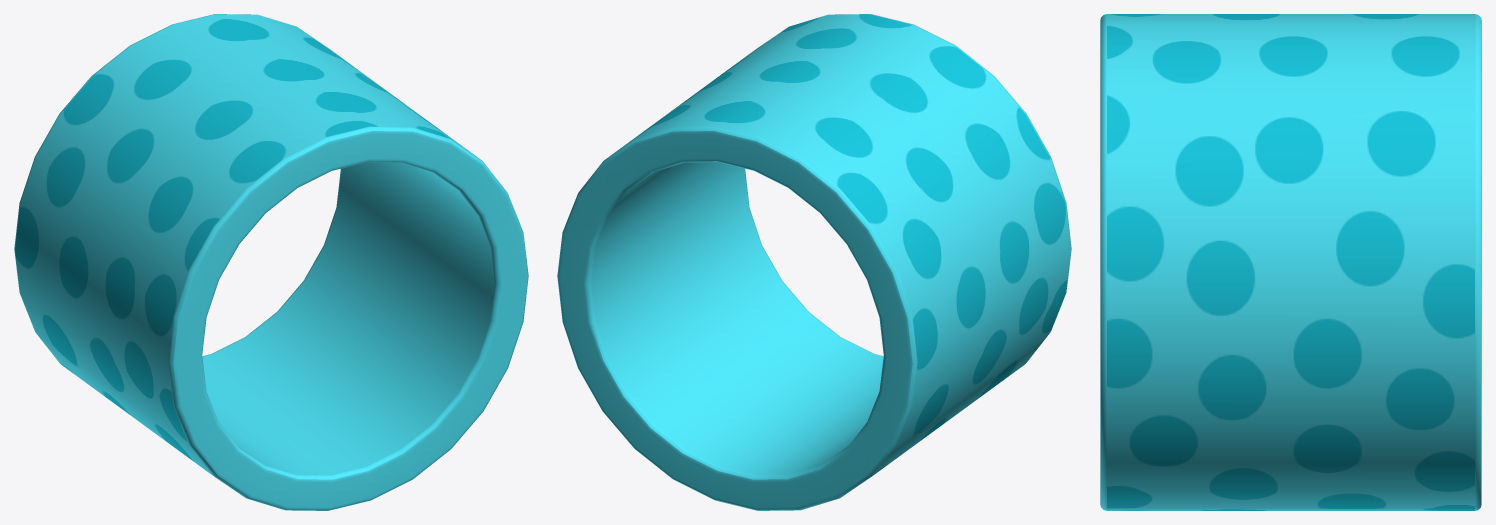
Rendered from RotatingPlatform.fbx.
3 views of the same model, side by side, from view 1: azimuth 30°, elevation 25°; view 2: azimuth 150°, elevation 25°; view 3: azimuth 270°, elevation 25° (orthographic). The views are drawn at different scales.
Visible parts, largest first — view 1: RollOut_Close; view 2: RollOut_Close; view 3: RollOut_Close.
Boxes of the visible parts, x1,y1,x2,y2 form: RollOut_Close: [14, 14, 528, 510]; RollOut_Close: [557, 14, 1071, 510]; RollOut_Close: [1100, 14, 1481, 510].
Size of the model in its own units: 65.32 by 64.85 by 50.02.
